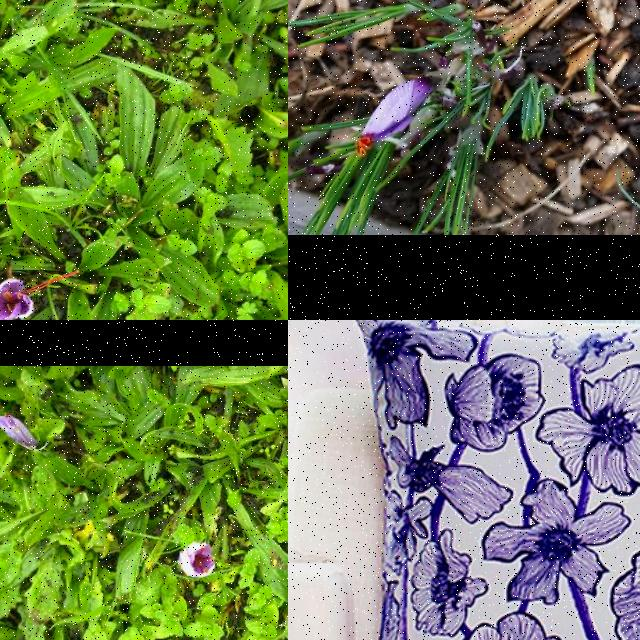flower: (356, 78, 434, 158), (0, 269, 79, 320), (180, 542, 216, 578), (0, 416, 35, 444)
